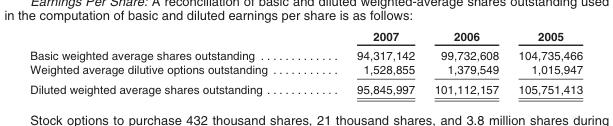table: (29, 28, 582, 95)
table column: (29, 28, 311, 95), (311, 28, 423, 95), (423, 28, 507, 95), (507, 28, 582, 95)
table column header: (29, 28, 582, 45)
table row: (29, 28, 582, 45), (29, 45, 582, 62), (29, 78, 582, 95), (29, 62, 582, 78)
